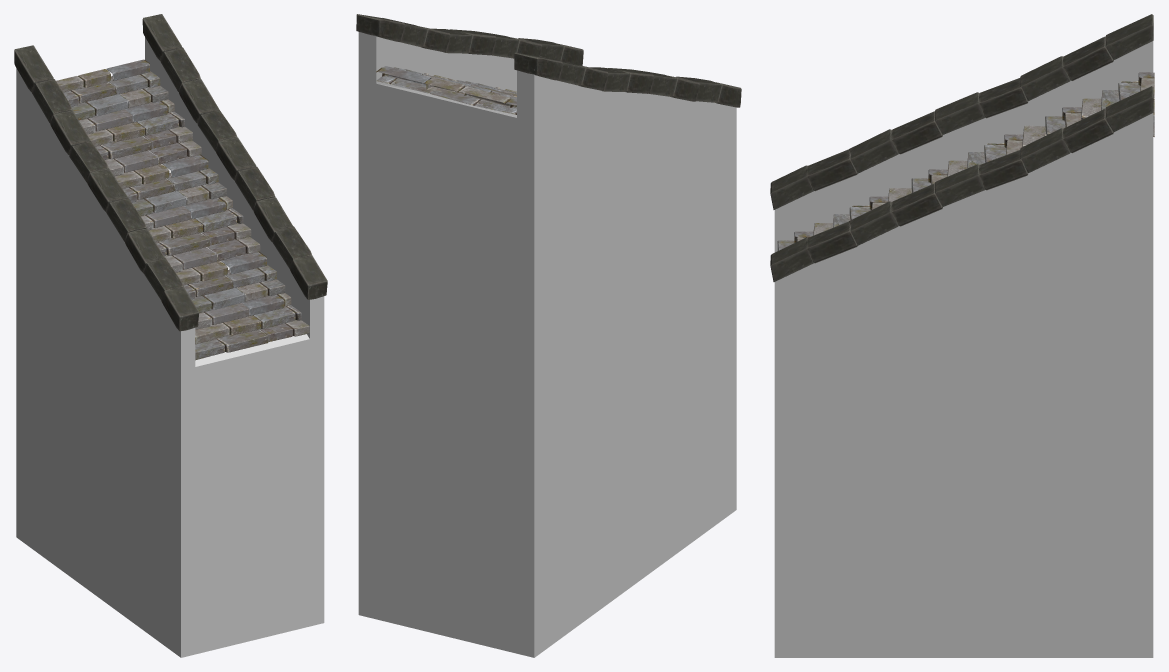
The picture shows the model from 3 angles, left to right: view 1: azimuth 30°, elevation 25°; view 2: azimuth 150°, elevation 25°; view 3: azimuth 270°, elevation 25°; orthographic projection. The views are drawn at different scales.
Parts seen in each view (by area): view 1: SM_Dowdun_Walkway_Steps_4m_01_LOD0; view 2: SM_Dowdun_Walkway_Steps_4m_01_LOD0; view 3: SM_Dowdun_Walkway_Steps_4m_01_LOD0.
Part boxes in pixels (x1,y1,x2,y2): SM_Dowdun_Walkway_Steps_4m_01_LOD0: (14, 14, 327, 657); SM_Dowdun_Walkway_Steps_4m_01_LOD0: (356, 14, 741, 657); SM_Dowdun_Walkway_Steps_4m_01_LOD0: (770, 14, 1154, 657).
Bounding box in the file's own units: 5.22 × 16.34 × 10.11.
3 materials, 2 textured.
